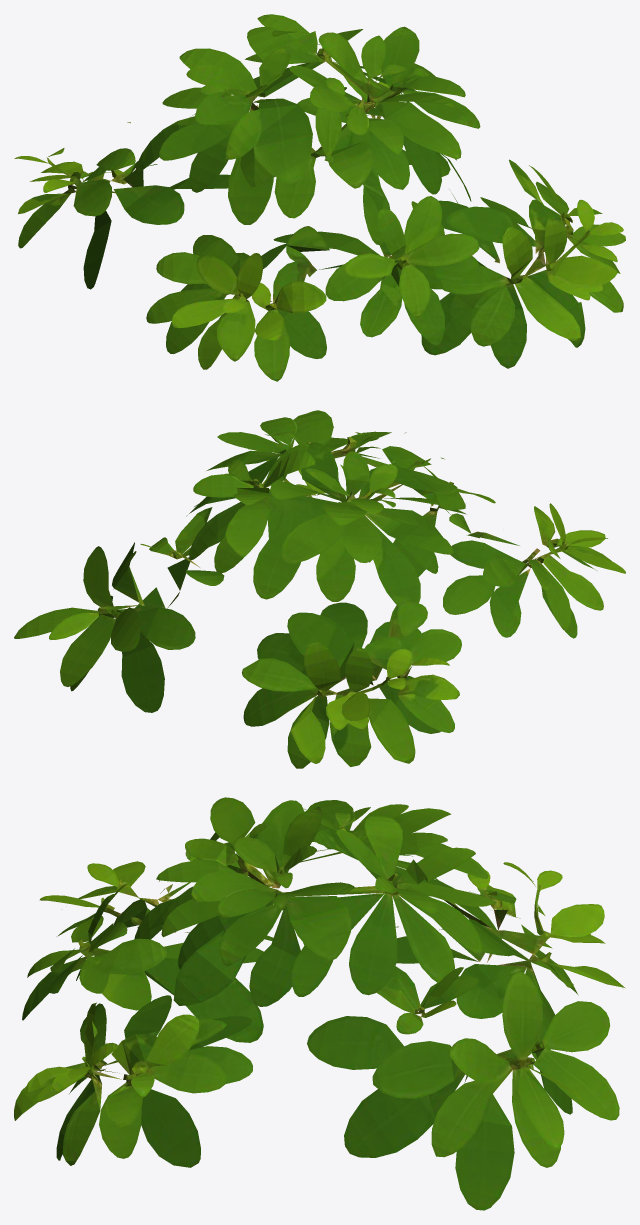
The model's file is leaf_sp.glb.
3 views of the same model, one above another, from view 1: azimuth 30°, elevation 25°; view 2: azimuth 150°, elevation 25°; view 3: azimuth 270°, elevation 25° (orthographic). The views are drawn at different scales.
Visible parts, largest first — view 1: geometry_0; view 2: geometry_0; view 3: geometry_0.
Part boxes in pixels (bbox=[...]): geometry_0: bbox=[14, 14, 625, 381]; geometry_0: bbox=[14, 410, 625, 768]; geometry_0: bbox=[14, 797, 625, 1210].
Size of the model in its own units: 0.2998 by 0.1709 by 0.3157.
1 material, 1 textured.
